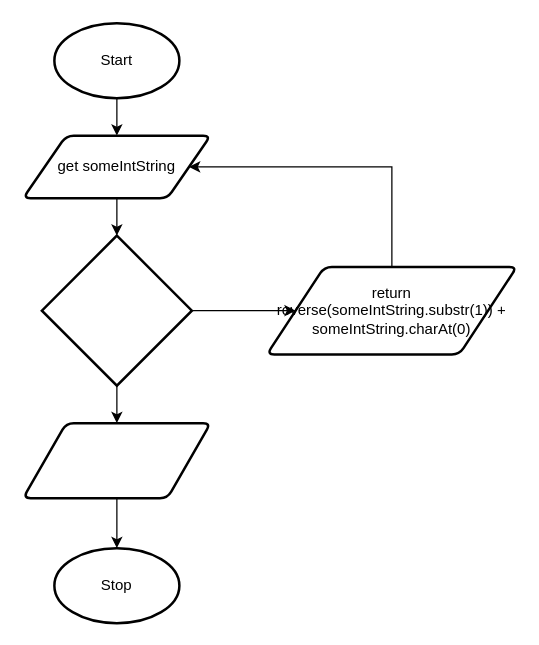
This 539x645 diagram has some shape labels left out. Each missing label, with the centre of its shape:
if (someIntString = ''): the point at 116,310
return someIntString: the point at 116,460
